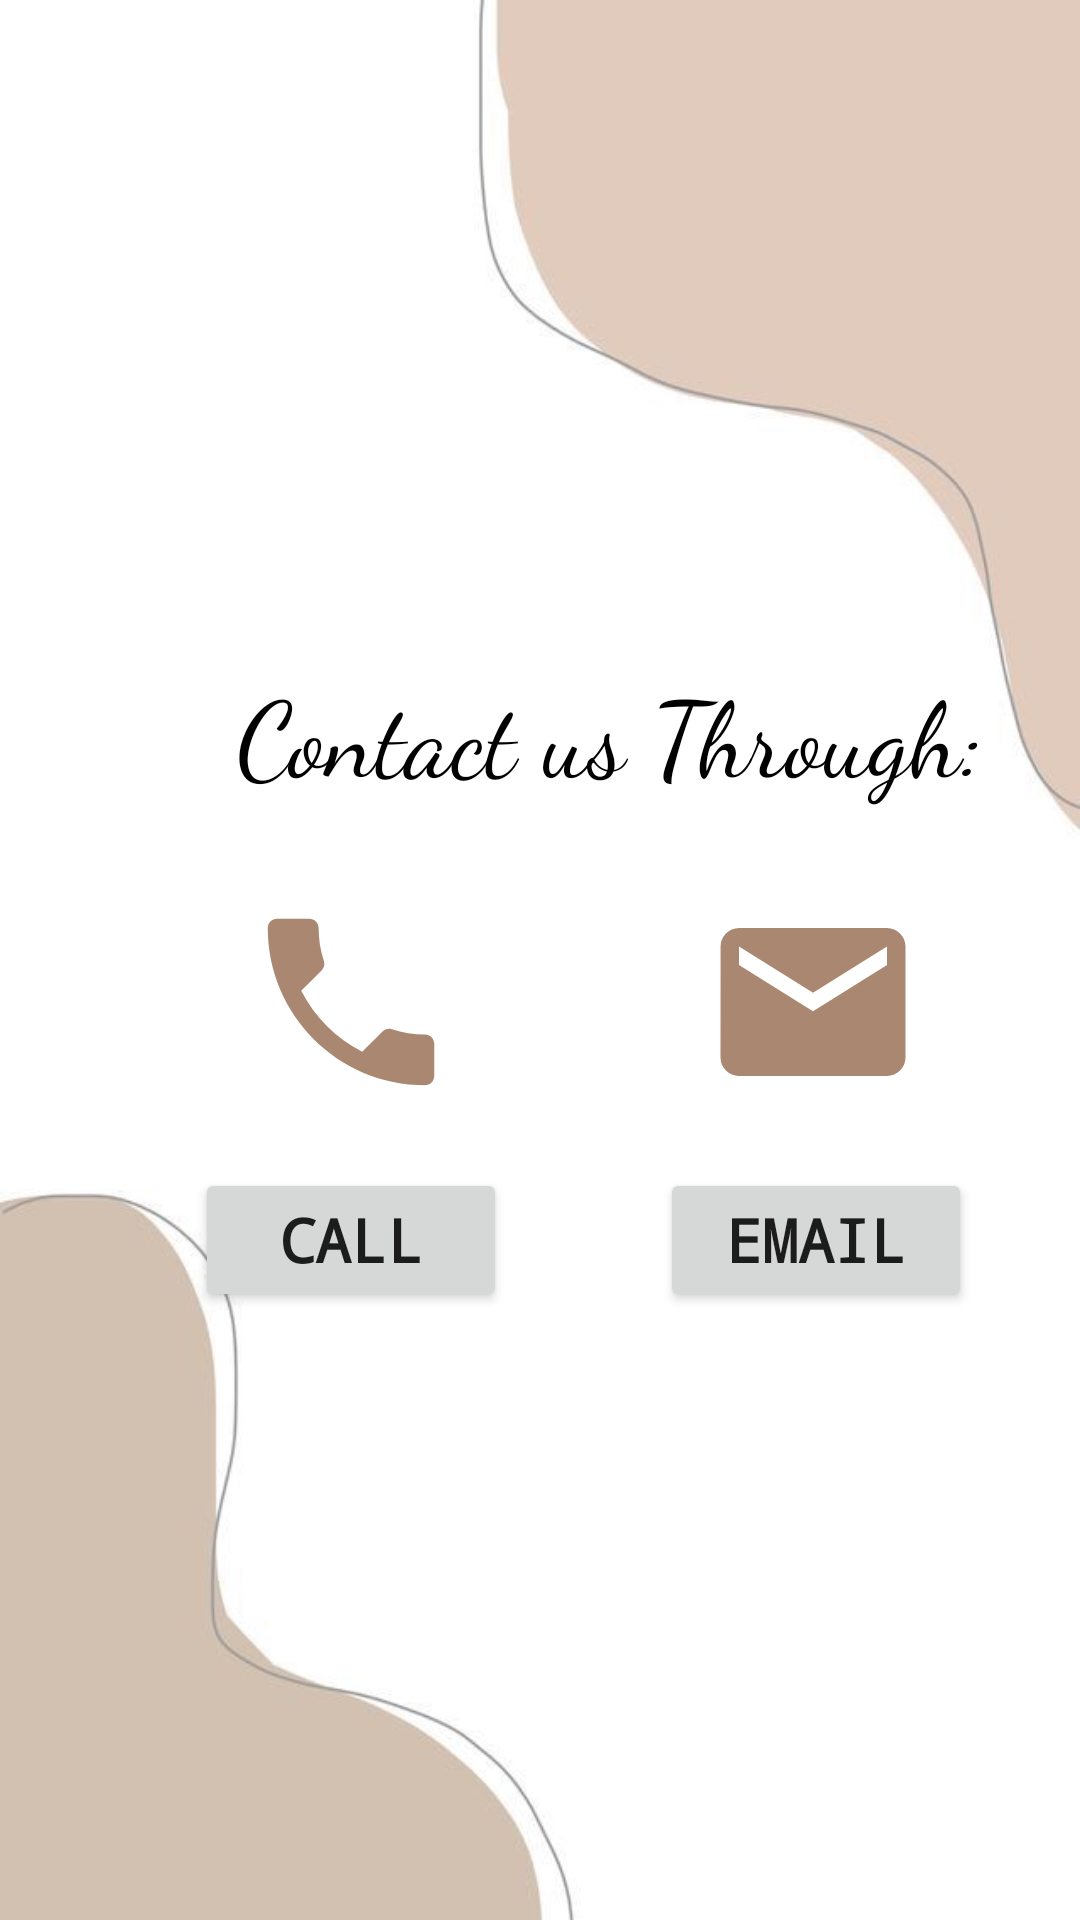

Icon bounding boxes for this 1080 × 1920 phone screenshot, format (x1, y1, x2, y2):
local phone: (267, 918, 435, 1086)
